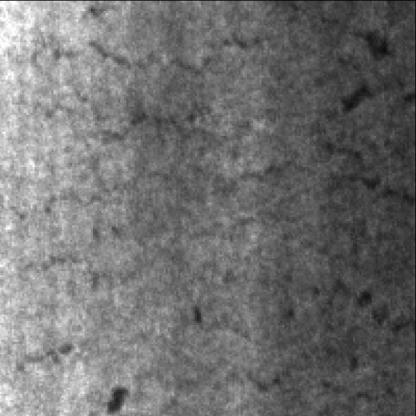crazing: (17, 37, 278, 287), (314, 2, 414, 333), (181, 304, 412, 408)
